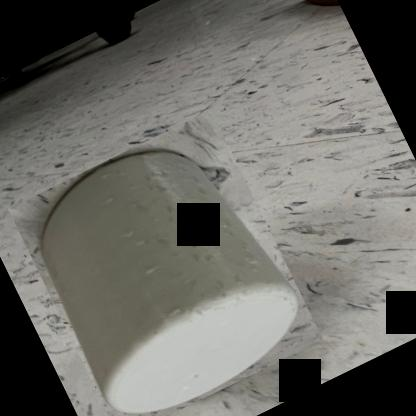white cylinder: (8, 109, 324, 416)
